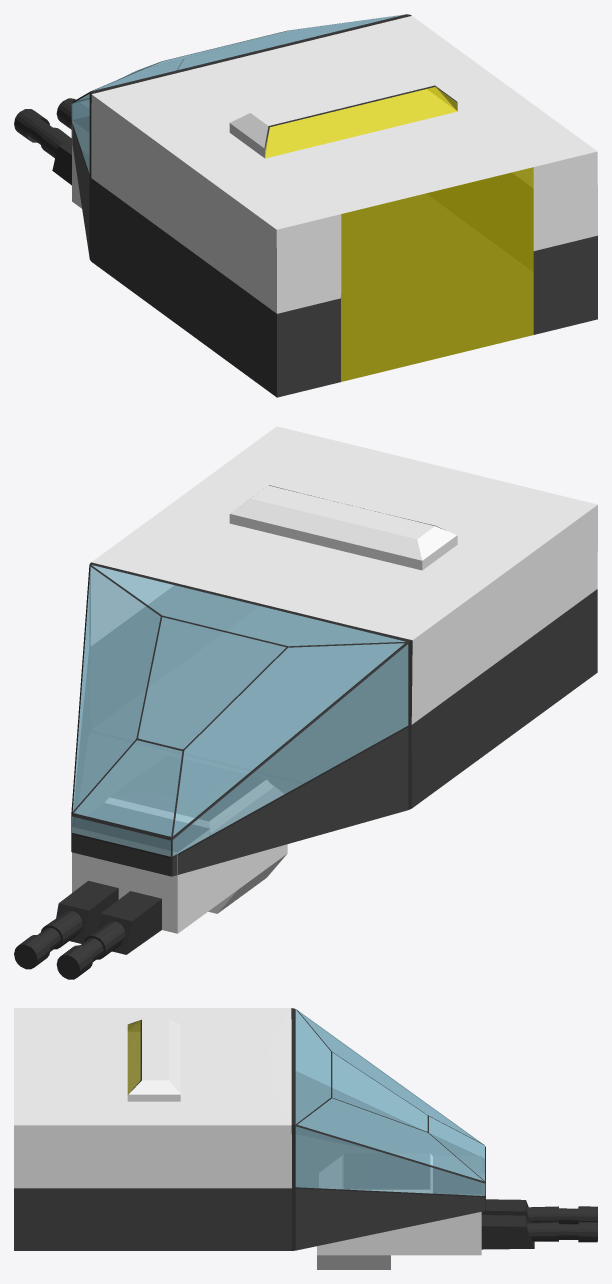
The model's file is Vaisseau.fbx.
3 renders of one model, top to bottom at view 1: azimuth 30°, elevation 25°; view 2: azimuth 150°, elevation 25°; view 3: azimuth 270°, elevation 25°, orthographic. The views are drawn at different scales.
Parts seen in each view (by area): view 1: Vaisseau, Accelerateur, TourelleVaisseau; view 2: Vaisseau, TourelleVaisseau, Accelerateur; view 3: Vaisseau, TourelleVaisseau, Accelerateur.
Part boxes in pixels (box(x1,y1,x2,y2)): Vaisseau: box(71, 14, 597, 397); Accelerateur: box(229, 72, 457, 158); TourelleVaisseau: box(14, 98, 89, 208); Vaisseau: box(71, 426, 597, 876); TourelleVaisseau: box(14, 755, 287, 979); Accelerateur: box(229, 485, 457, 570); Vaisseau: box(14, 1008, 485, 1250); TourelleVaisseau: box(317, 1153, 597, 1269); Accelerateur: box(127, 1019, 180, 1101).
Size of the model in its own units: 2 by 4.21 by 1.66.
